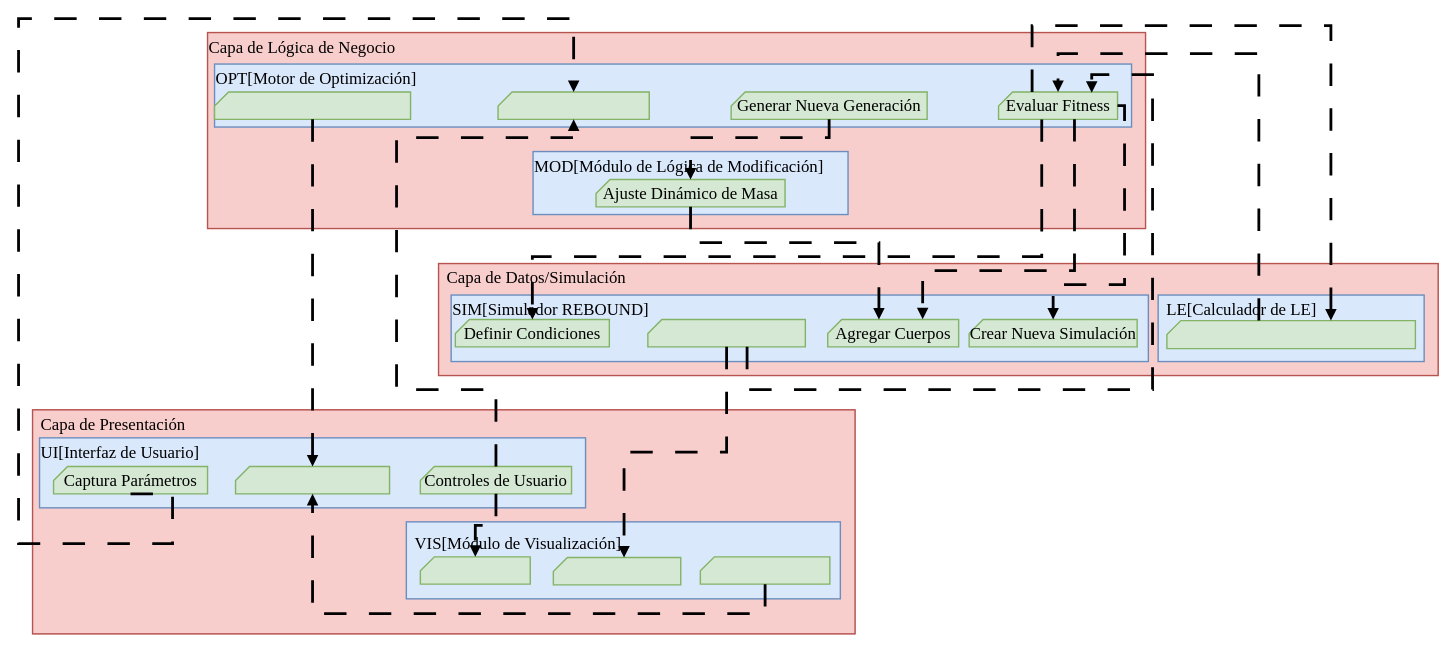
Image size: 1450x646. Some labels were removed from this diagram. The centre of each missing label's shape, as x and y in pixels:
"Calcular Exponente de Lyapunov" belongs at pixel 1291 334.
"Ejecutar Simulación" belongs at pixel 726 332.
"Formar Siguiente Población" belongs at pixel 312 105.
"Generar Gráficos" belongs at pixel 764 570.
"Inicializar Población" belongs at pixel 573 105.
"Mostrar Resultados" belongs at pixel 312 479.
"Procesar Datos" belongs at pixel 475 570.
"Recolectar Datos" belongs at pixel 616 570.
